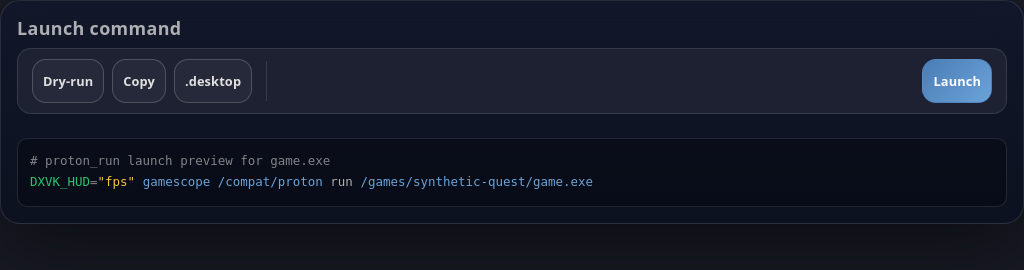
Scenario: HeroLaunchCommandSection › shows "Command copied." status after successful copy
Click the button "Copy" at (139, 81), box [112,59,166,103]
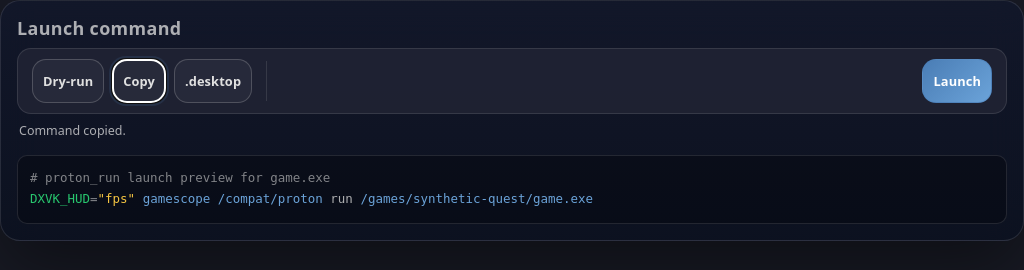
Now the message reads "Command copied.", box [19,122,126,139]
